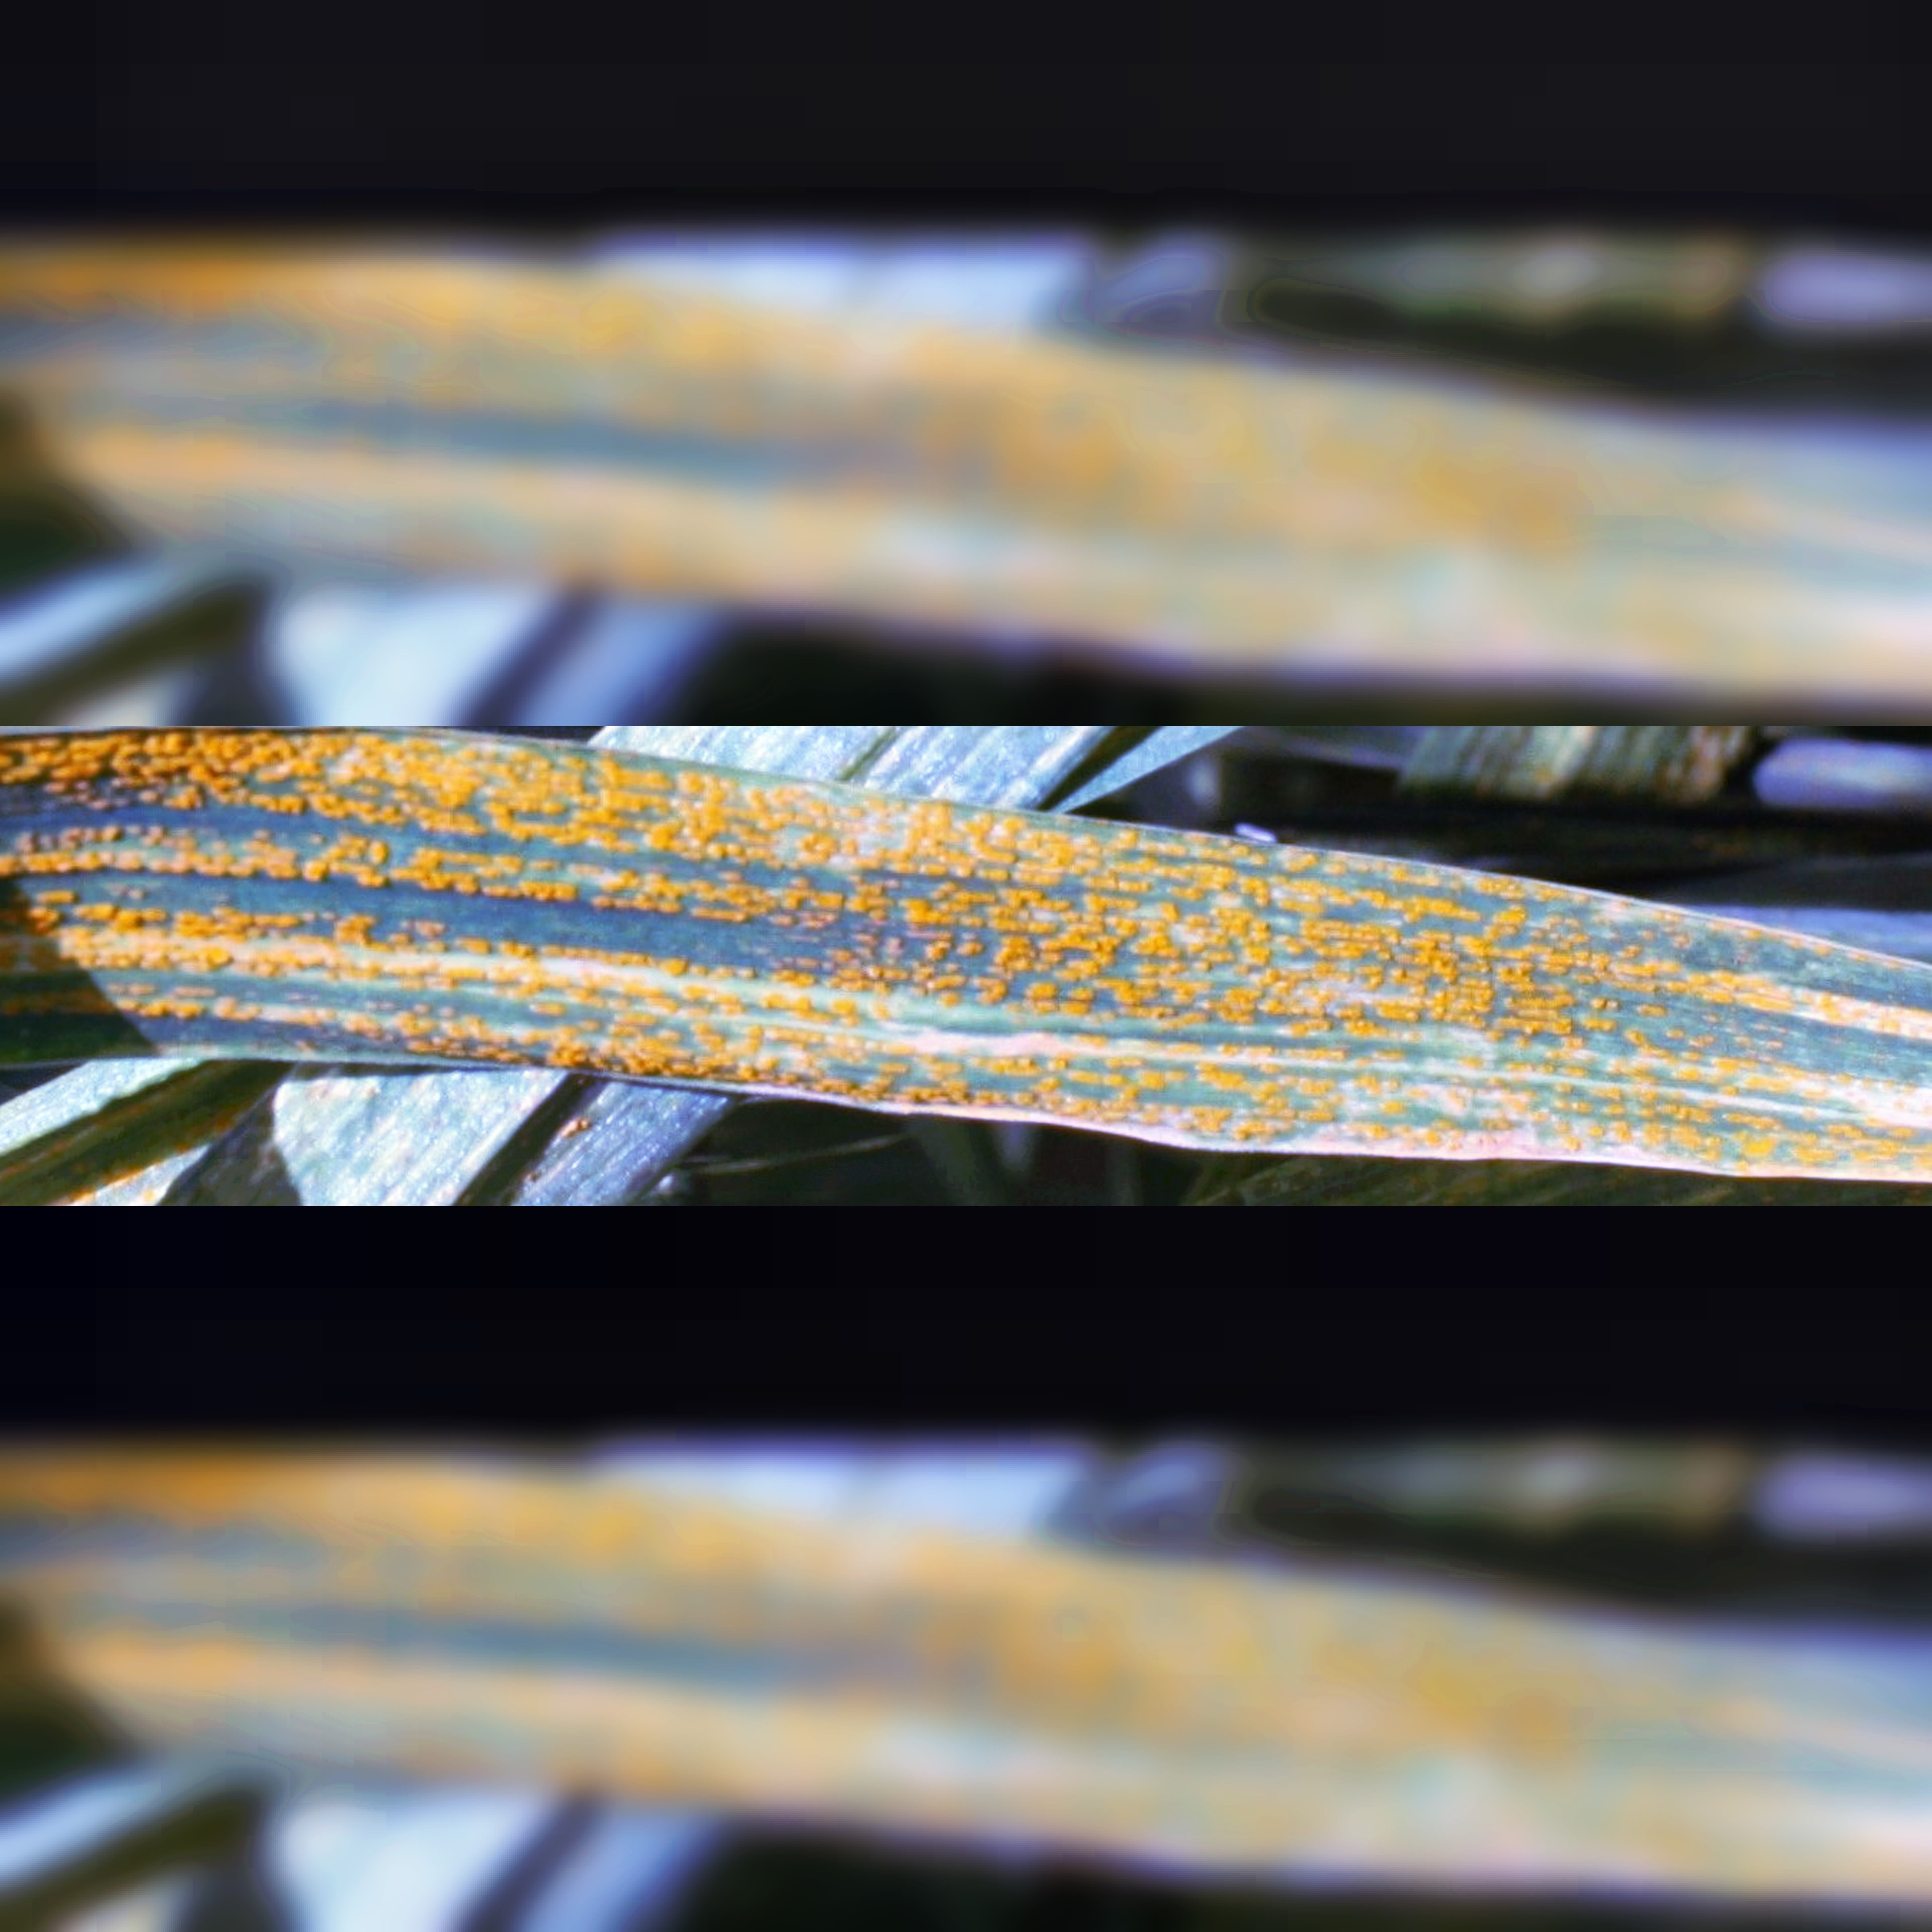Leaf Rust: (67, 725, 1879, 1182)
